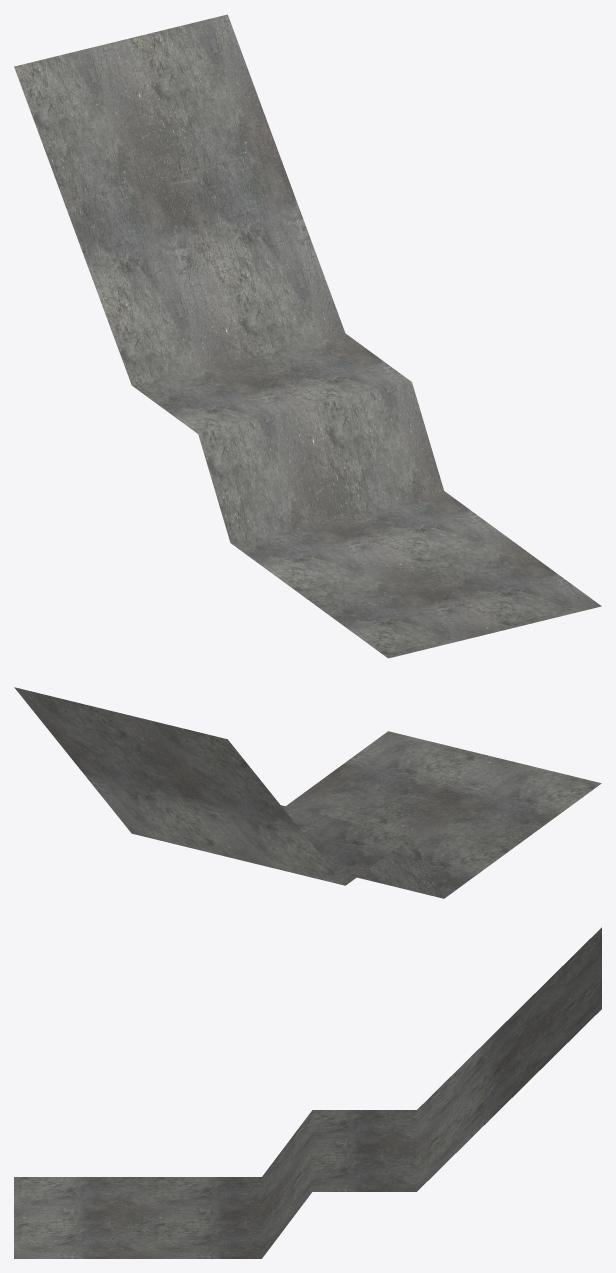
Rendered from ground.FBX.
3 renders of one model, top to bottom at view 1: azimuth 30°, elevation 25°; view 2: azimuth 150°, elevation 25°; view 3: azimuth 270°, elevation 25°, orthographic. The views are drawn at different scales.
Visible parts, largest first — view 1: ground; view 2: ground; view 3: ground.
Part boxes in pixels (bbox=[...]): ground: bbox=[14, 14, 601, 658]; ground: bbox=[14, 687, 601, 898]; ground: bbox=[14, 927, 601, 1258].
Bounding box in the file's own units: 949 × 1349 × 2878.
